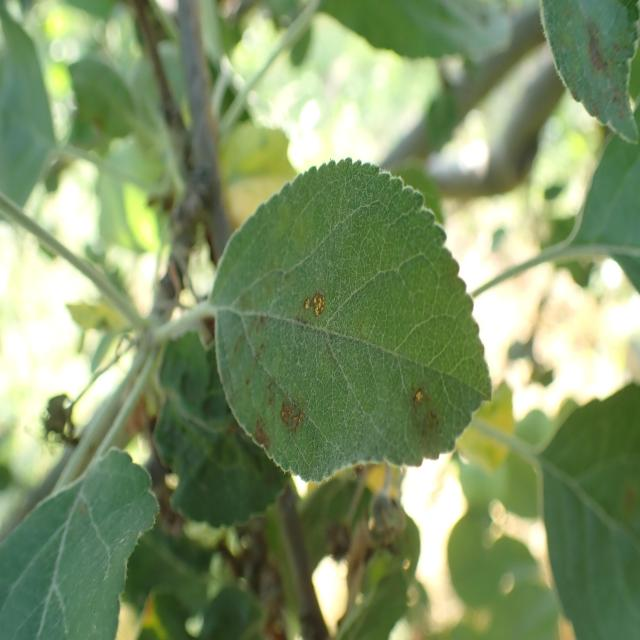scab: (224, 270, 331, 476), (386, 347, 460, 490)
